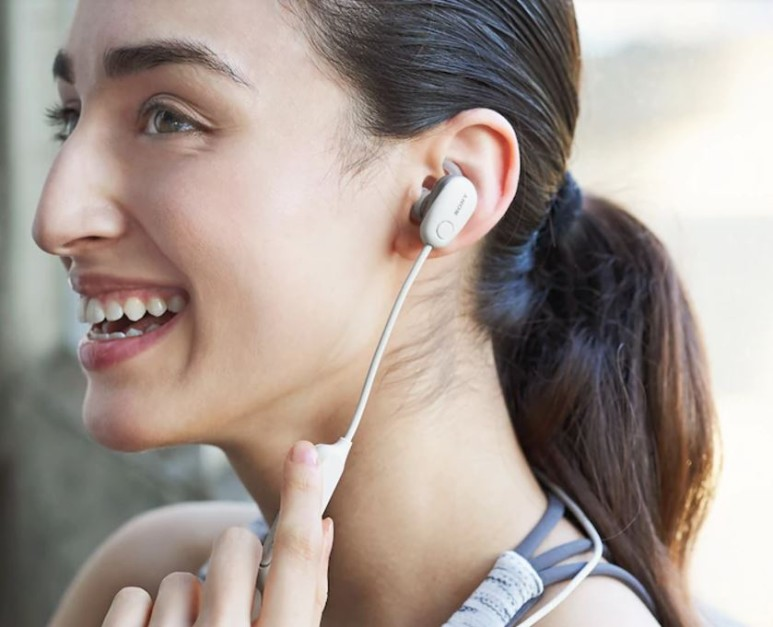earphone: (395, 108, 521, 260)
